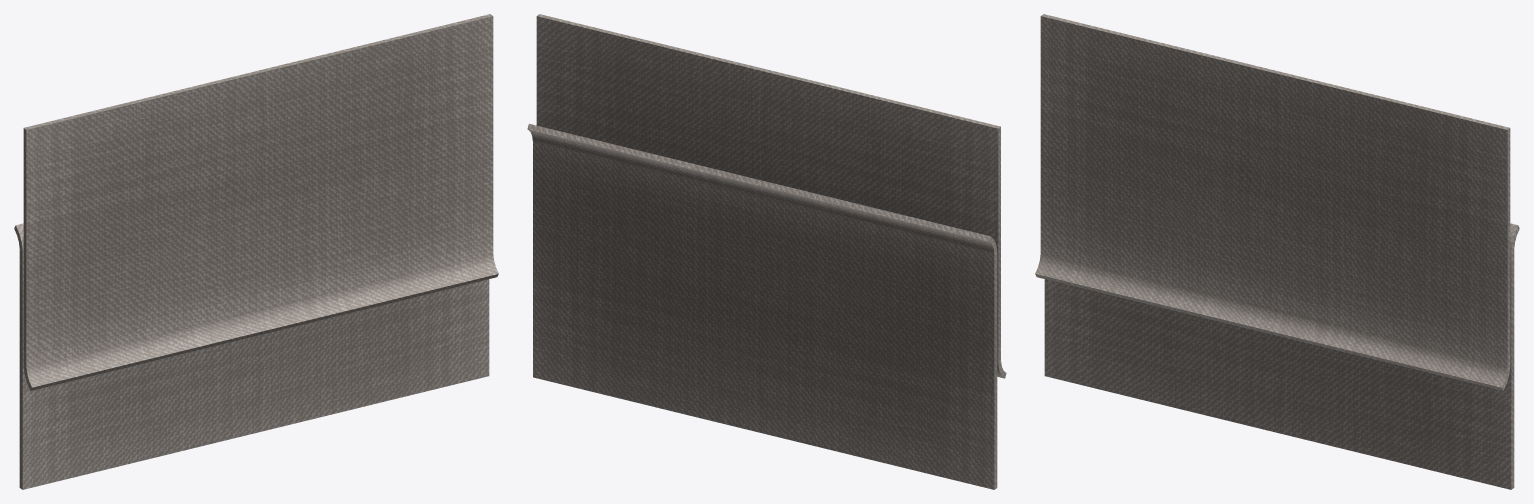
File: BO_Sin1_Material.FBX
3 renders of one model, left to right at view 1: azimuth 30°, elevation 25°; view 2: azimuth 150°, elevation 25°; view 3: azimuth 330°, elevation 25°, orthographic.
Parts seen in each view (by area): view 1: BO_Sin1_Material; view 2: BO_Sin1_Material; view 3: BO_Sin1_Material.
Boxes of the visible parts, bbox=[...] form: BO_Sin1_Material: bbox=[14, 14, 498, 489]; BO_Sin1_Material: bbox=[527, 14, 1006, 489]; BO_Sin1_Material: bbox=[1035, 14, 1519, 489].
Size of the model in its own units: 100 by 74.24 by 6.64.
